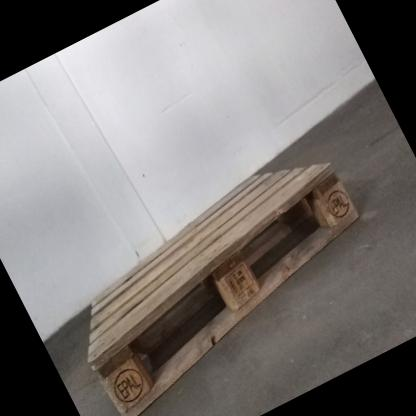BoxFace: (87, 156, 367, 416)
